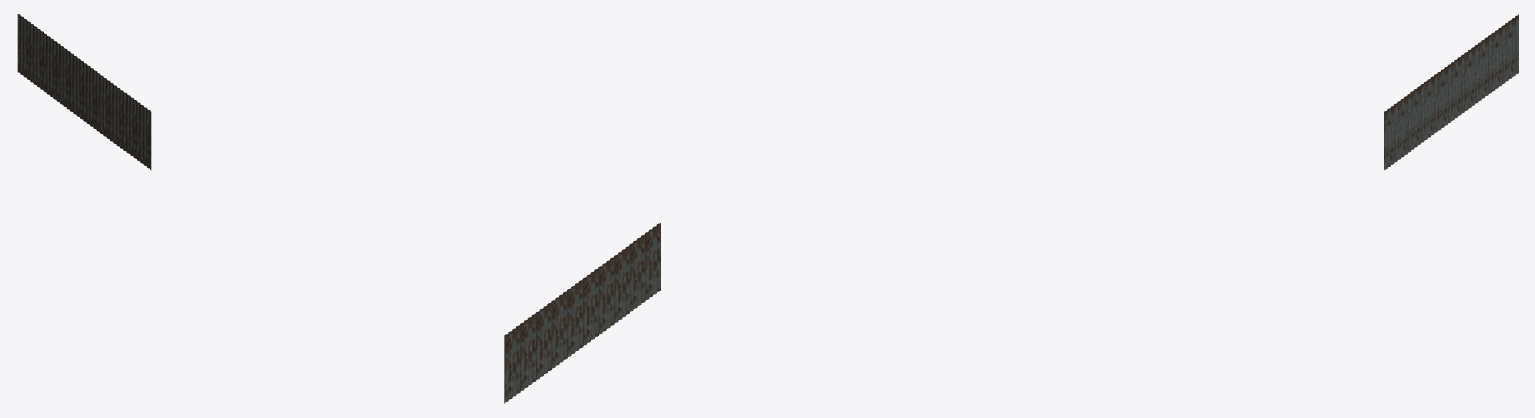
File: old_metal_10.glb
The picture shows the model from 3 angles, left to right: view 1: azimuth 30°, elevation 25°; view 2: azimuth 150°, elevation 25°; view 3: azimuth 330°, elevation 25°; orthographic projection. The views are drawn at different scales.
Parts seen in each view (by area): view 1: root; view 2: root; view 3: root.
Part boxes in pixels (left/top/right/bottom): root: left=17, top=14, right=151, bottom=170; root: left=504, top=223, right=660, bottom=403; root: left=1384, top=14, right=1518, bottom=169.
Bounding box in the file's own units: 21.43 × 241 × 3427.
Materials: 3 (1 with a texture image).
